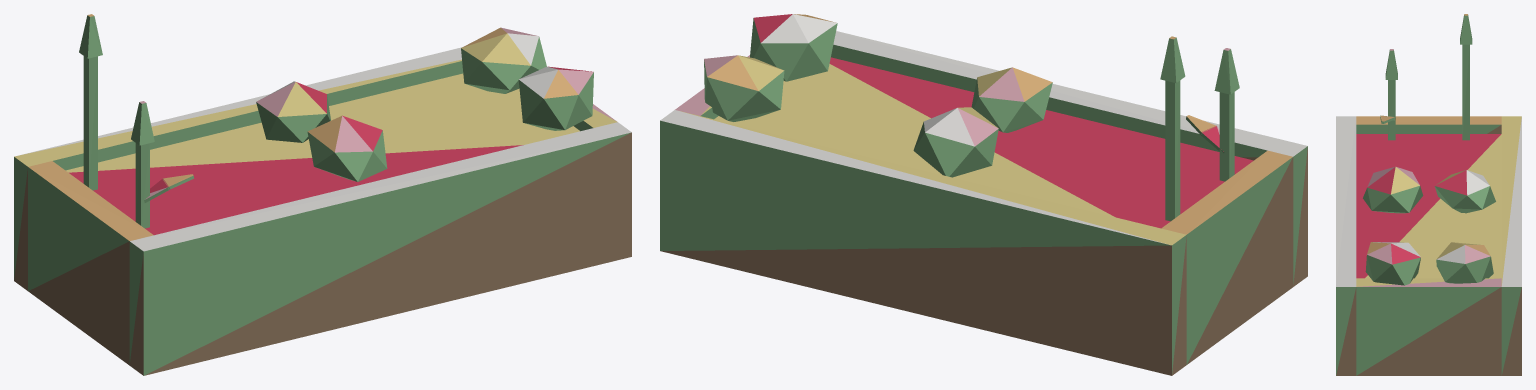
The model's file is flower-bed-00.glb.
3 renders of one model, left to right at view 1: azimuth 30°, elevation 25°; view 2: azimuth 150°, elevation 25°; view 3: azimuth 270°, elevation 25°, orthographic. The views are drawn at different scales.
Visible parts, largest first — view 1: flower_bed_00; view 2: flower_bed_00; view 3: flower_bed_00.
Boxes of the visible parts, bbox=[...] form: flower_bed_00: bbox=[14, 14, 631, 375]; flower_bed_00: bbox=[660, 14, 1307, 375]; flower_bed_00: bbox=[1336, 14, 1521, 375].
Bounding box in the file's own units: 1.61 × 0.894 × 0.738.
